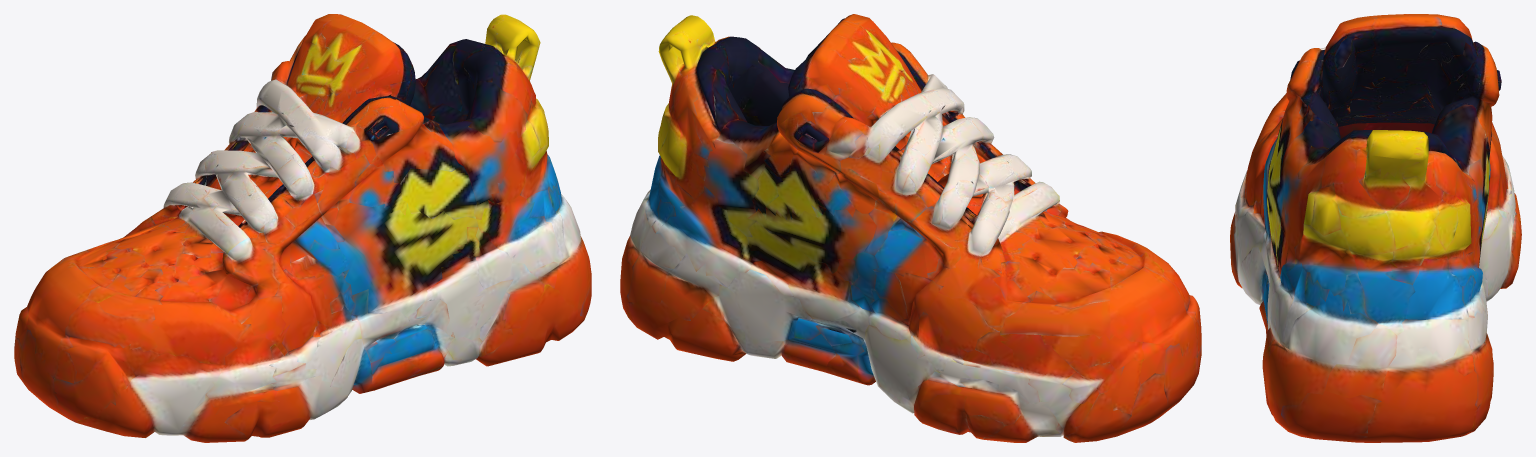
File: sneaker_meshy.glb
3 renders of one model, left to right at view 1: azimuth 30°, elevation 25°; view 2: azimuth 150°, elevation 25°; view 3: azimuth 270°, elevation 25°, orthographic. The views are drawn at different scales.
Size of the model in its own units: 1.9 by 1.08 by 0.8332.
Materials: 1 (1 with a texture image).
